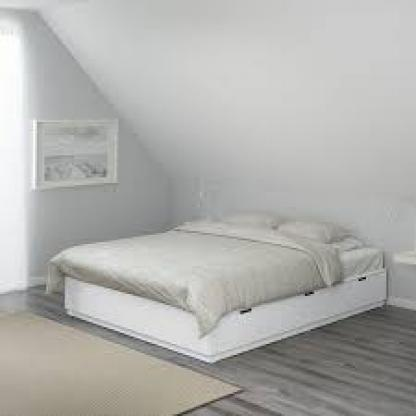Bed: (44, 209, 388, 366)
